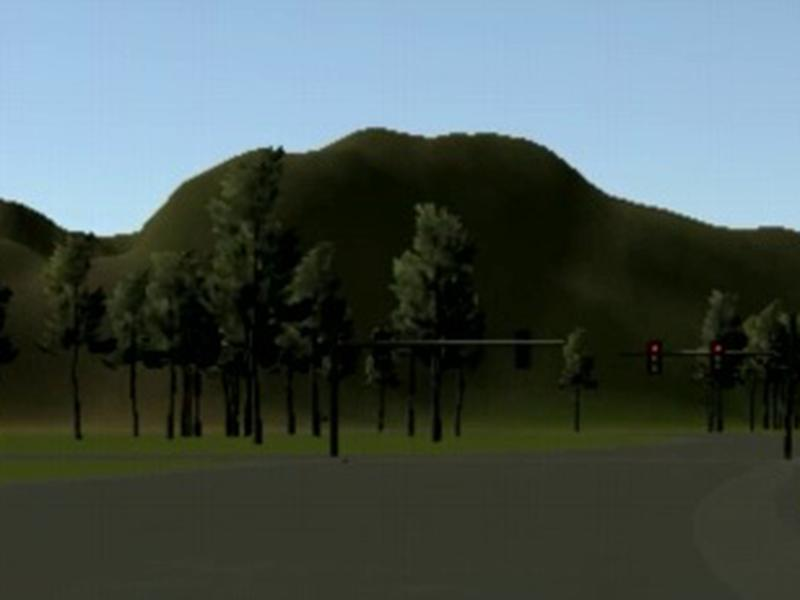Red: (709, 338, 726, 376), (649, 340, 662, 375)
